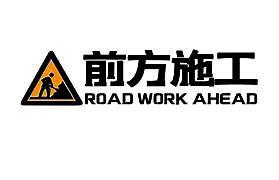sign: (18, 46, 258, 106)
